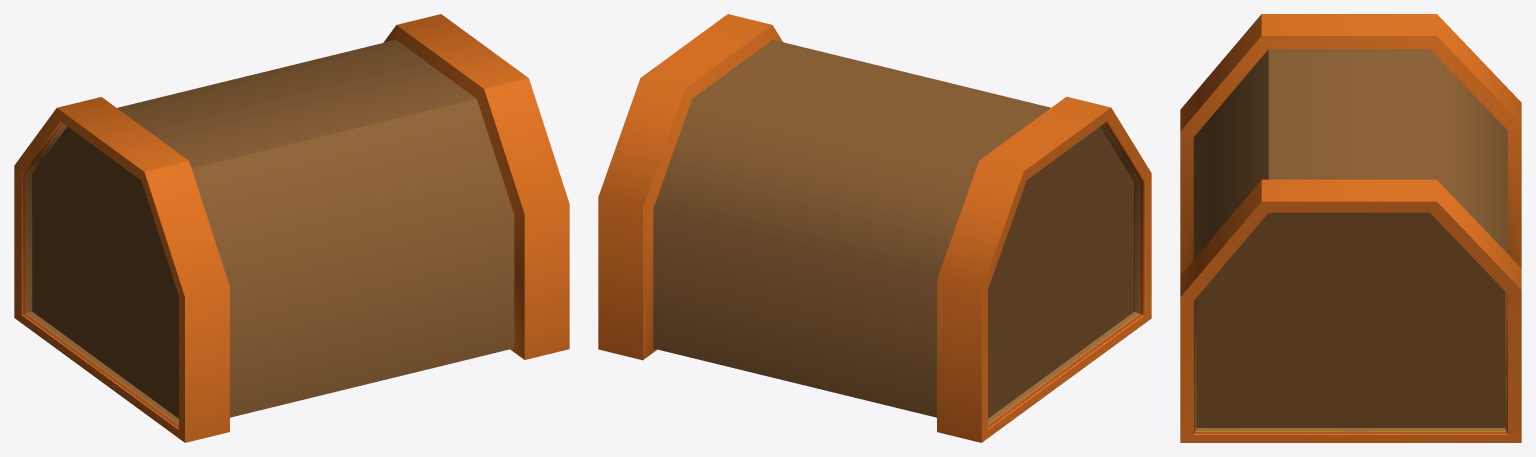
Rendered from 3d-esteve-alba-caixadarmes.glb.
3 views of the same model, side by side, from view 1: azimuth 30°, elevation 25°; view 2: azimuth 150°, elevation 25°; view 3: azimuth 270°, elevation 25° (orthographic).
Visible parts, largest first — view 1: Cube.001; view 2: Cube.001; view 3: Cube.001.
Part boxes in pixels (left/top/right/bottom): Cube.001: left=14, top=14, right=569, bottom=442; Cube.001: left=598, top=14, right=1151, bottom=442; Cube.001: left=1180, top=14, right=1521, bottom=442.
Size of the model in its own units: 1.01 by 0.6071 by 0.7785.
1 material, 1 textured.
